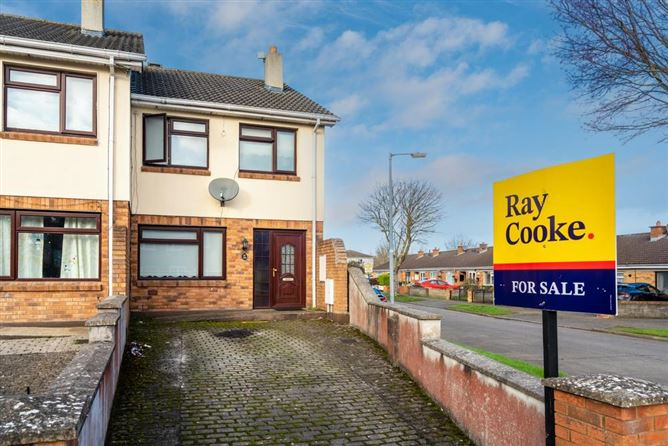property sign: (467, 146, 651, 319)
